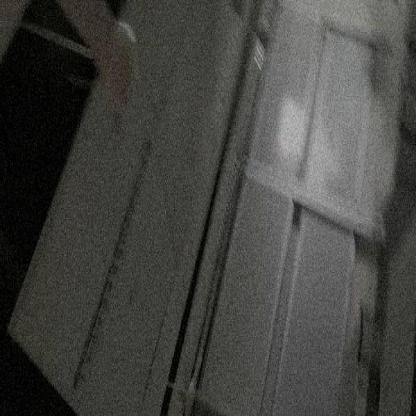light_off: (65, 118, 160, 398)
